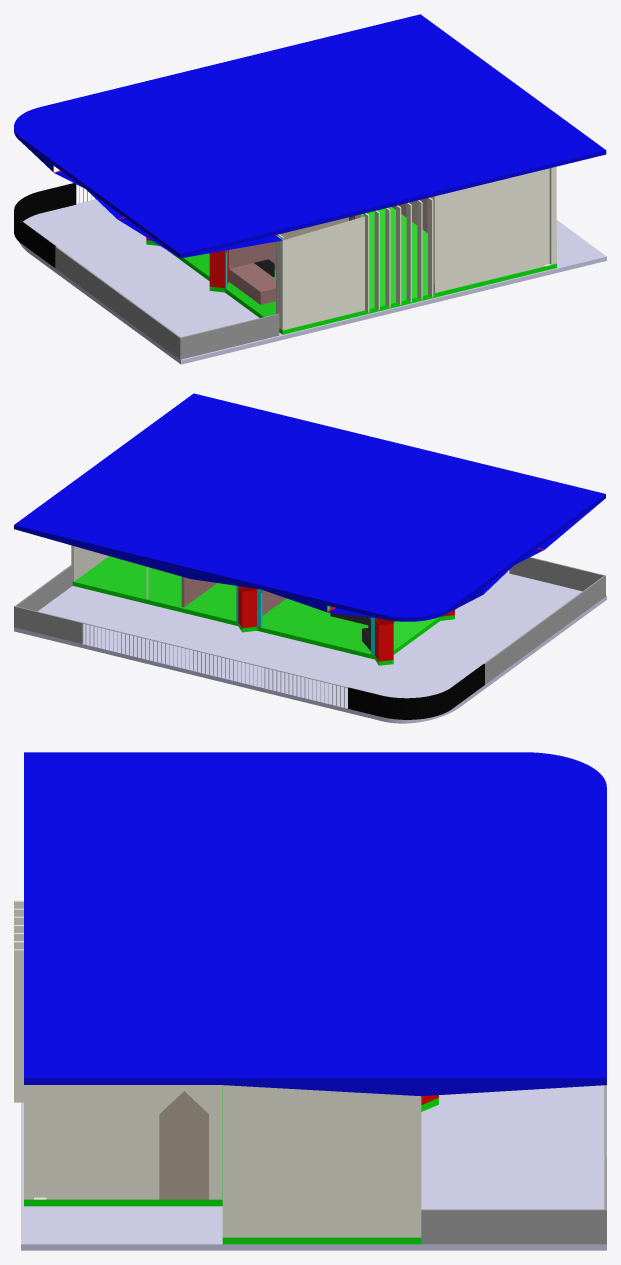
The picture shows the model from 3 angles, top to bottom: view 1: azimuth 30°, elevation 25°; view 2: azimuth 150°, elevation 25°; view 3: azimuth 270°, elevation 25°; orthographic projection. The views are drawn at different scales.
Parts seen in each view (by area): view 1: slabs, EXTERNAL WALLS, FLOOR PLATES, glasses, floors, railings, internal walls, Layer0, columns; view 2: slabs, FLOOR PLATES, glasses, floors, railings, Layer0, columns, internal walls, EXTERNAL WALLS; view 3: slabs, EXTERNAL WALLS, FLOOR PLATES, railings, floors.
Part boxes in pixels (x1,y1,x2,y2): slabs: (14,14,606,258); EXTERNAL WALLS: (276,166,556,330); FLOOR PLATES: (19,199,606,364); glasses: (184,197,433,316); floors: (146,207,556,334); railings: (55,186,279,359); internal walls: (229,197,432,313); Layer0: (14,183,76,267); columns: (55,170,277,288); slabs: (14,393,605,621); FLOOR PLATES: (14,571,606,723); glasses: (74,546,439,655); floors: (72,556,457,665); railings: (14,557,605,707); Layer0: (348,664,484,719); columns: (238,547,543,661); internal walls: (181,576,286,615); EXTERNAL WALLS: (71,545,148,599); slabs: (24,752,606,1096); EXTERNAL WALLS: (14,900,421,1237); FLOOR PLATES: (21,1085,606,1250); railings: (421,1085,606,1244); floors: (24,1085,438,1244).
Bounding box in the file's own units: 15.54 × 3.83 × 11.93.
